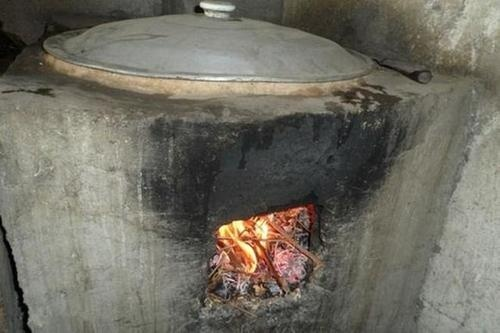fire: (215, 212, 271, 272)
